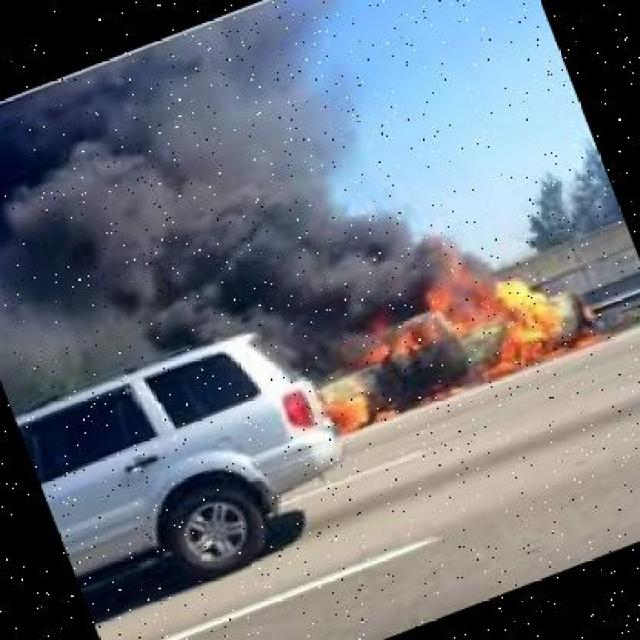fire: (283, 200, 602, 445)
